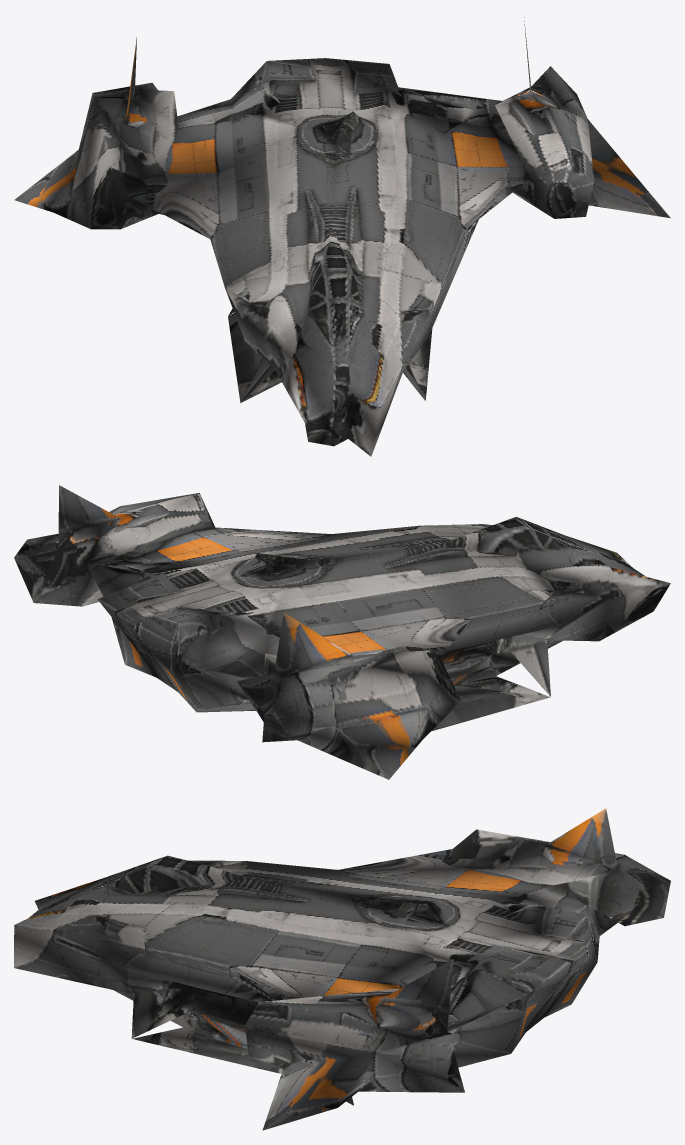
Rendered from tripo-rebaked-300.glb.
3 renders of one model, top to bottom at view 1: azimuth 30°, elevation 25°; view 2: azimuth 150°, elevation 25°; view 3: azimuth 270°, elevation 25°, orthographic. The views are drawn at different scales.
Parts seen in each view (by area): view 1: Low; view 2: Low; view 3: Low.
Part boxes in pixels (bbox=[...]): Low: bbox=[14, 17, 670, 456]; Low: bbox=[14, 485, 670, 779]; Low: bbox=[14, 808, 670, 1130].
Bounding box in the file's own units: 0.8073 × 0.3382 × 0.9568.
Materials: 1 (1 with a texture image).
